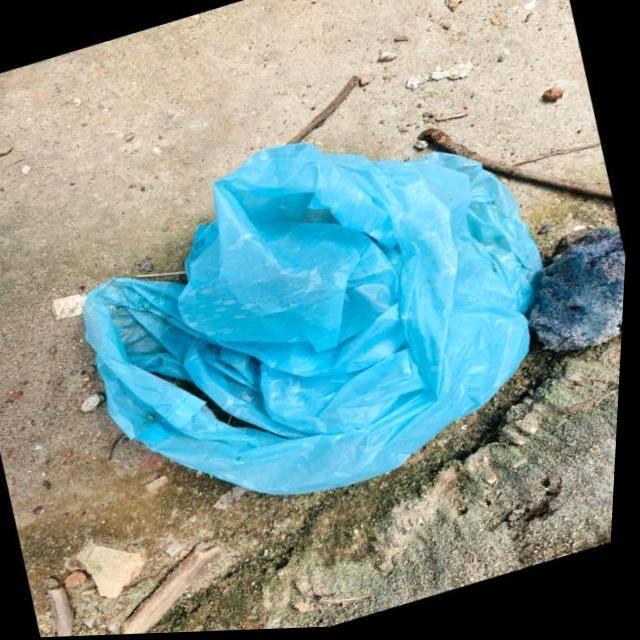polythene: (41, 92, 587, 557)
